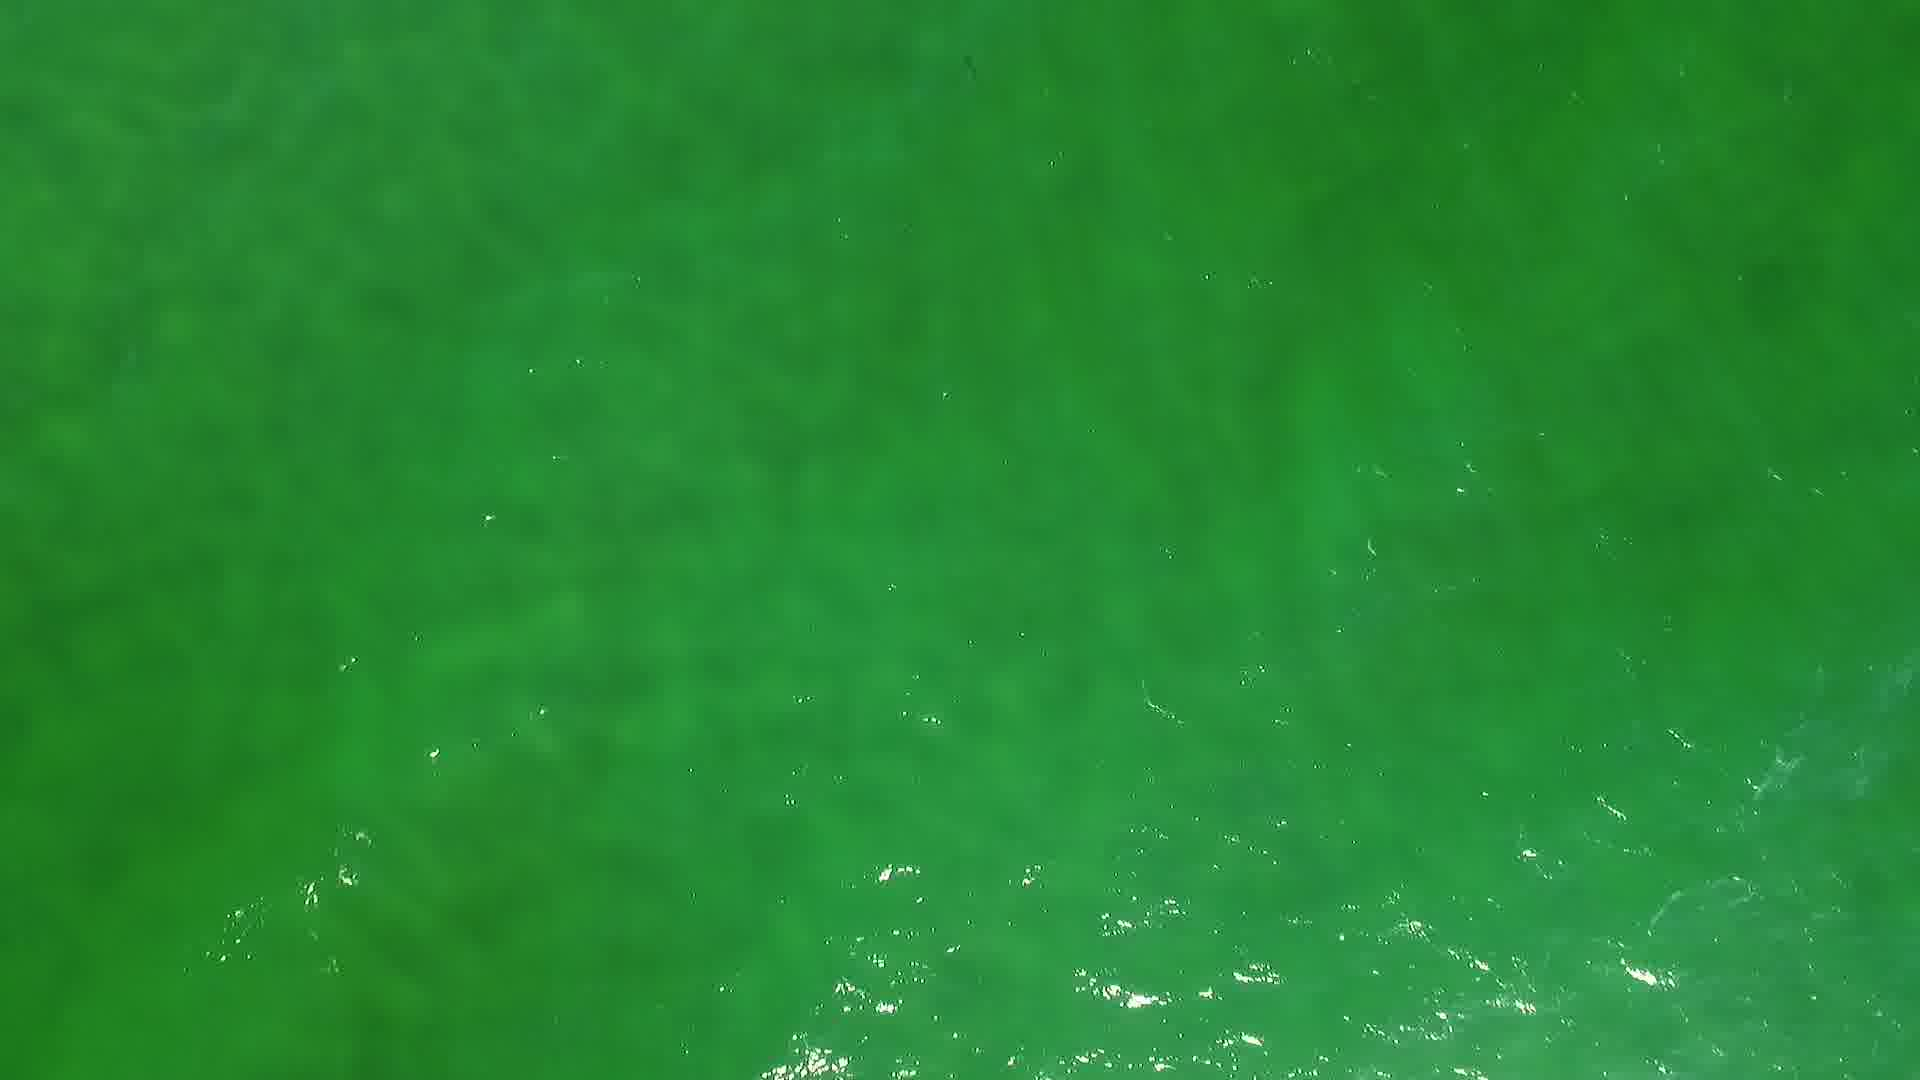shark: (959, 50, 986, 84)
